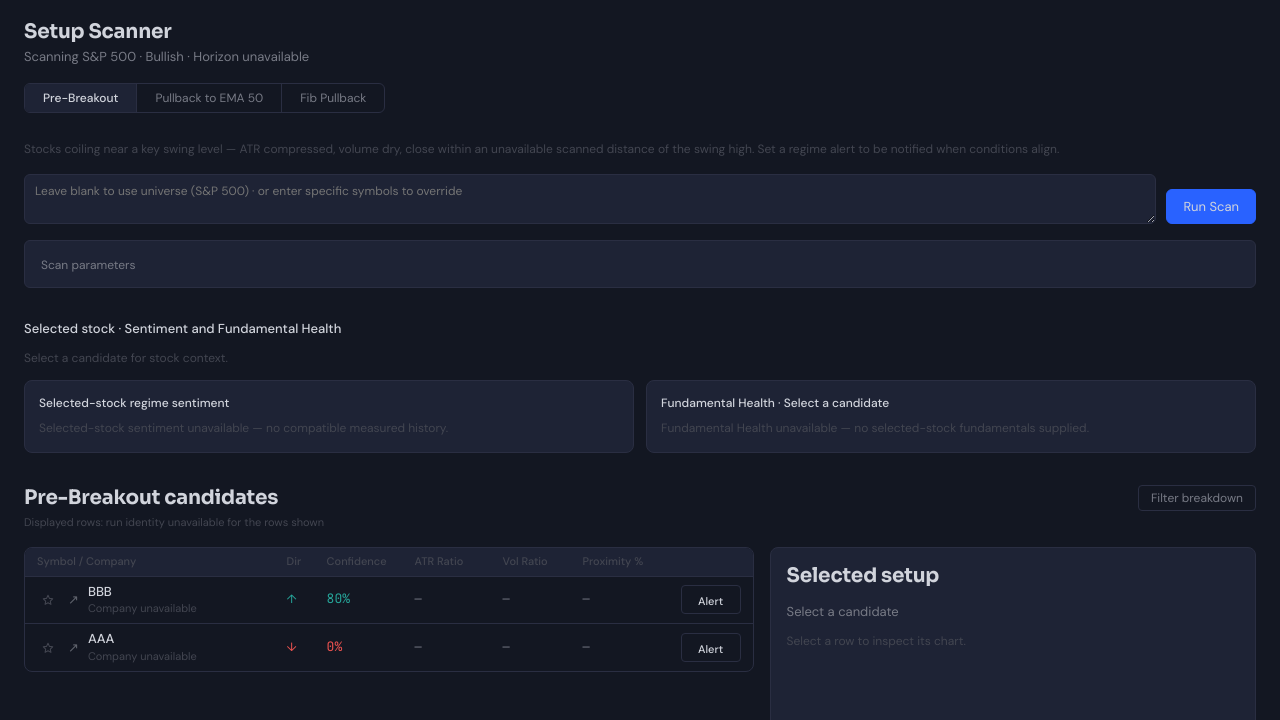
Test: scoped live request uses selected direction/captured horizon and real risk; panels follow amended placement
The width and height of the screenshot is (1280, 720).
Click the button with aria-label "Select AAA" at [142, 656], box [25,624,753,671]
(page scrolled)
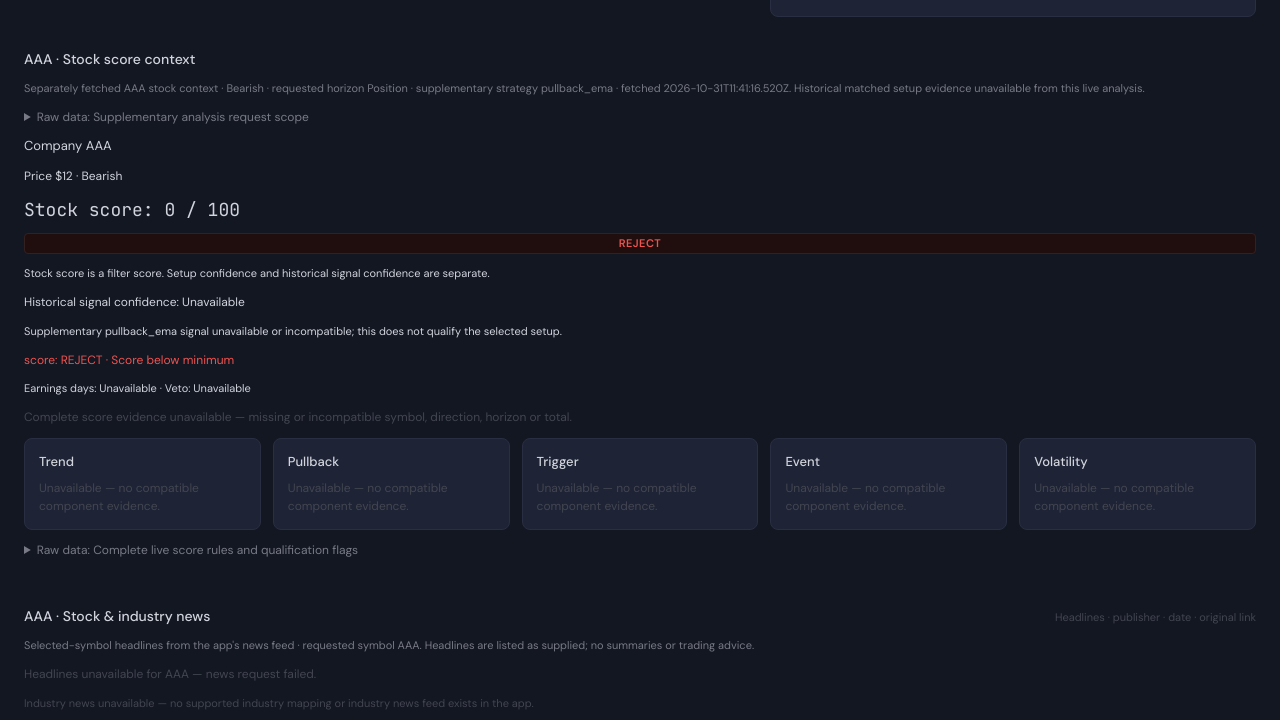
expect the text "Stock score: 0 / 100" is shown: met, box [24,198,240,220]
expect the text "Historical signal confidence: Unavailable" is shown: met, box [24,294,245,310]
expect the text "score: REJECT · Score below minimum" is shown: met, box [24,352,234,368]
